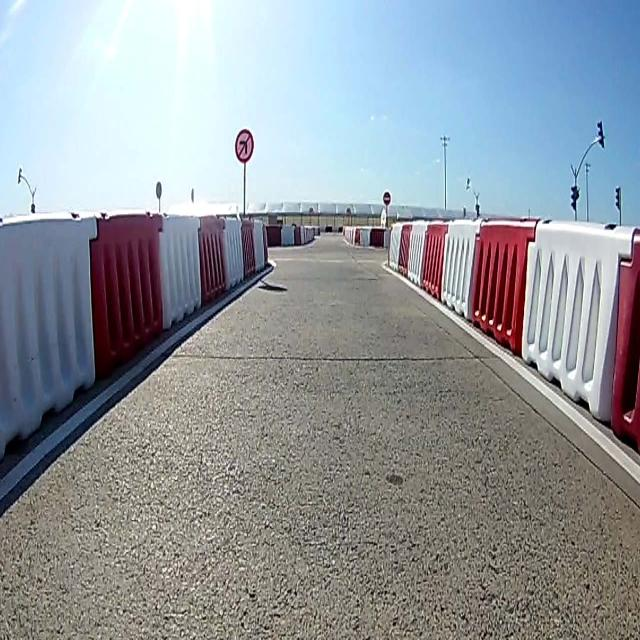girisyok: (383, 190, 390, 203)
soladonulmez: (236, 128, 253, 163)
